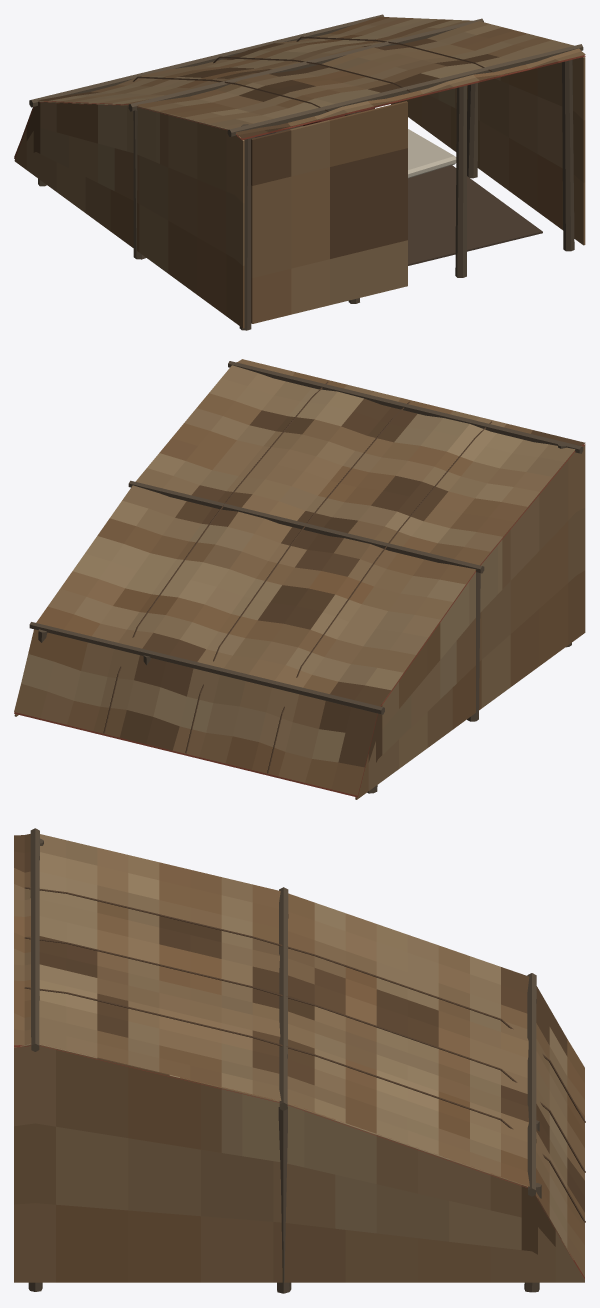
The model's file is toldo_b.glb.
3 views of the same model, one above another, from view 1: azimuth 30°, elevation 25°; view 2: azimuth 150°, elevation 25°; view 3: azimuth 270°, elevation 25° (orthographic). The views are drawn at different scales.
Parts seen in each view (by area): view 1: ToldoB; view 2: ToldoB; view 3: ToldoB.
Part boxes in pixels (x1,y1,x2,y2): ToldoB: (14, 14, 585, 330); ToldoB: (14, 359, 585, 799); ToldoB: (14, 828, 585, 1293).
Size of what is drawn, in the model's own units: 4.3 by 2.37 by 4.84.
